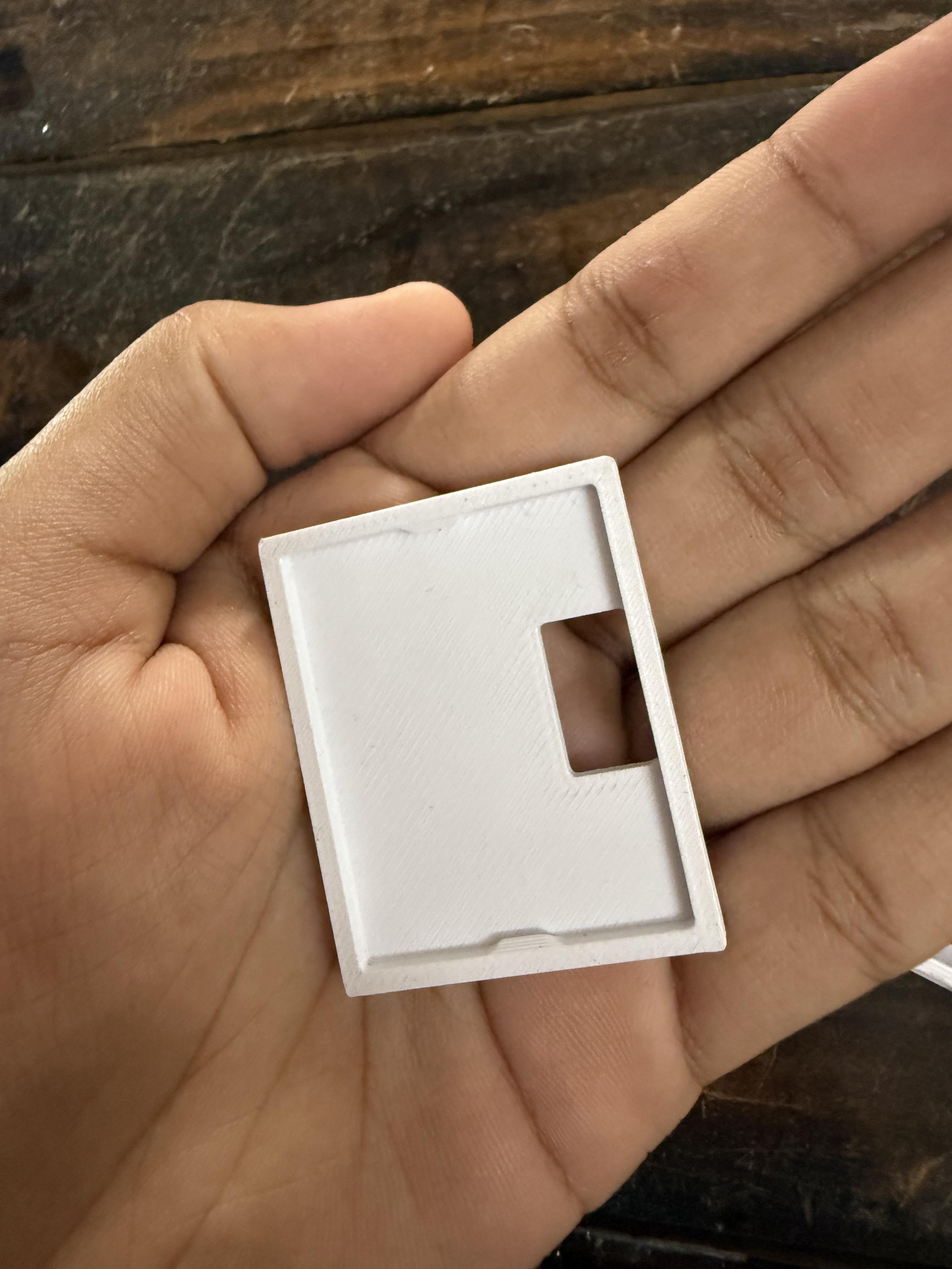enclosure: (258, 455, 727, 997)
